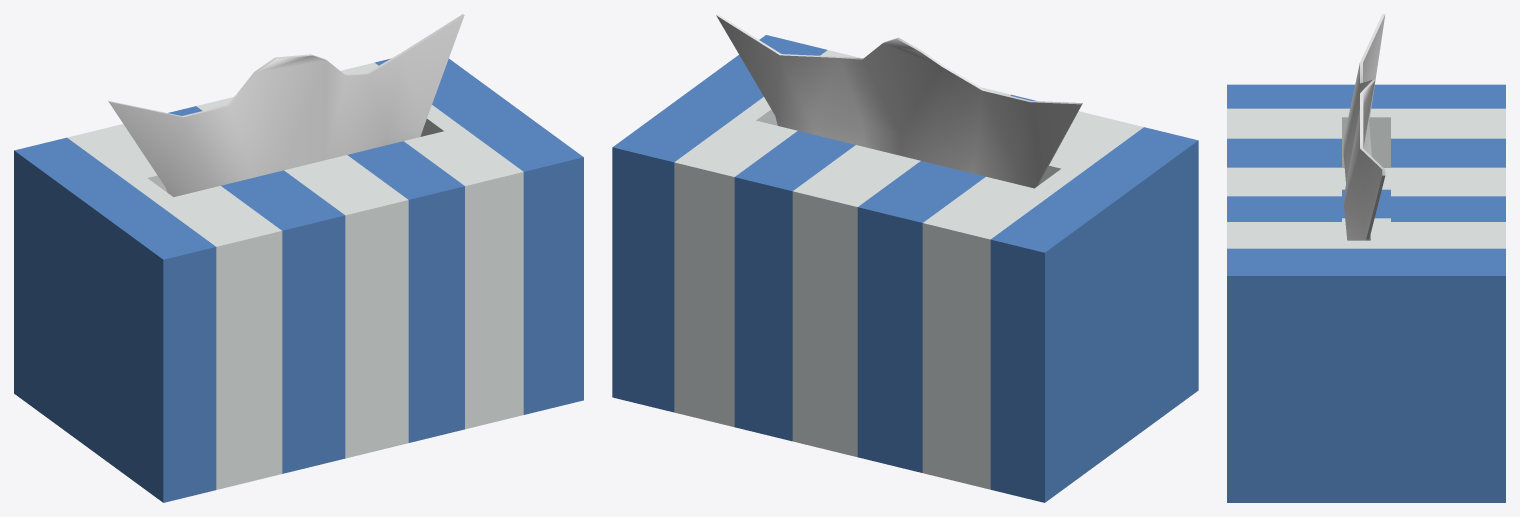
The model's file is 67_prop_tissue.FBX.
3 views of the same model, side by side, from view 1: azimuth 30°, elevation 25°; view 2: azimuth 150°, elevation 25°; view 3: azimuth 270°, elevation 25° (orthographic). The views are drawn at different scales.
Parts seen in each view (by area): view 1: prop_tissue; view 2: prop_tissue; view 3: prop_tissue.
Boxes of the visible parts, left/top/right/bottom form: prop_tissue: left=14, top=14, right=583, bottom=502; prop_tissue: left=612, top=14, right=1198, bottom=502; prop_tissue: left=1227, top=14, right=1505, bottom=502.
Bounding box in the file's own units: 23.25 × 18.05 × 14.31.
